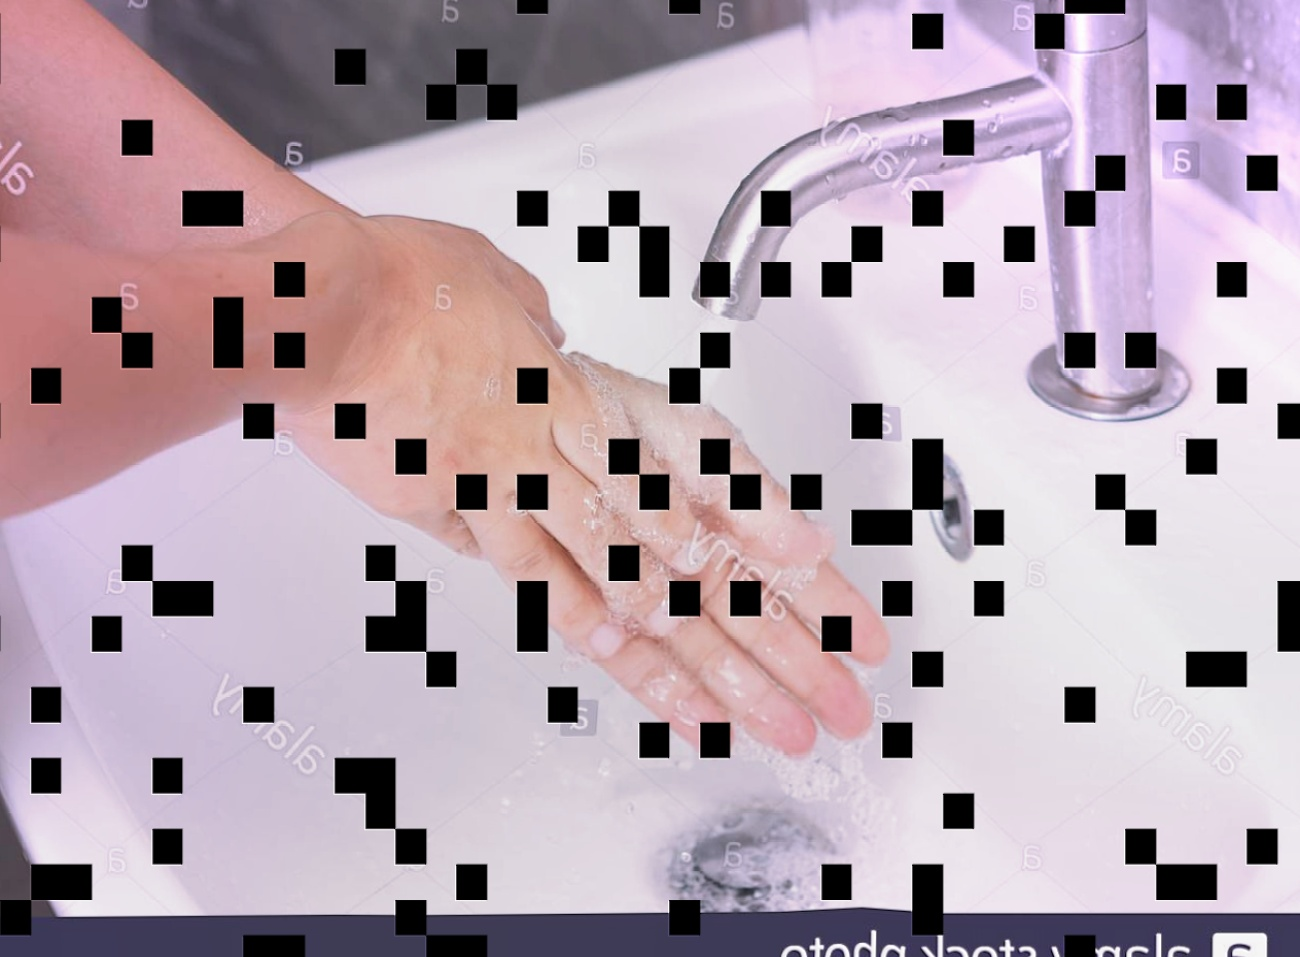washing hand: (368, 25, 1147, 813)
